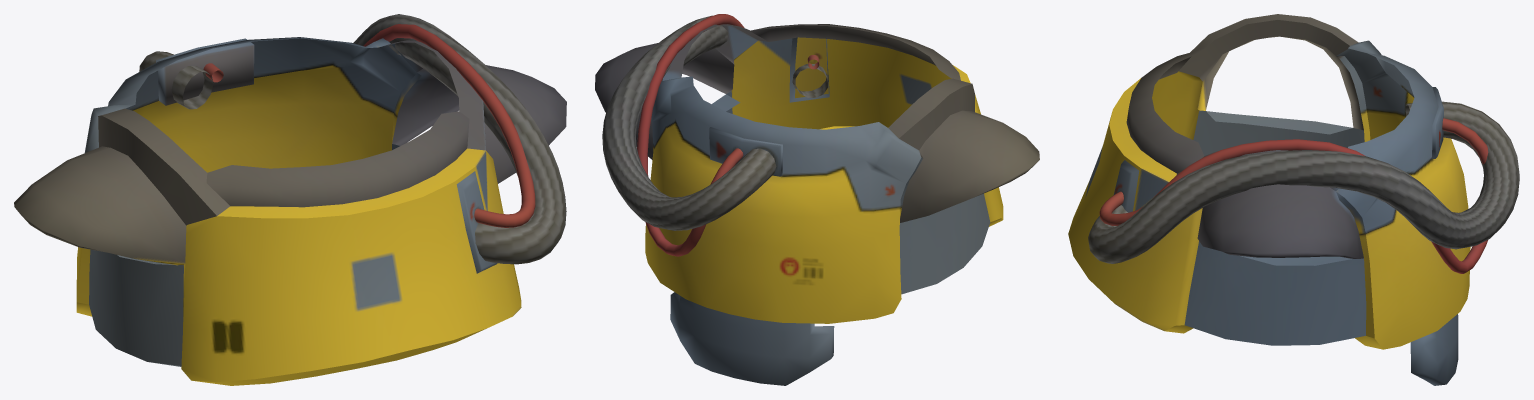
File: IG_Armor_Storm.fbx
The picture shows the model from 3 angles, left to right: view 1: azimuth 30°, elevation 25°; view 2: azimuth 150°, elevation 25°; view 3: azimuth 270°, elevation 25°; orthographic projection. The views are drawn at different scales.
Visible parts, largest first — view 1: StormArmor; view 2: StormArmor; view 3: StormArmor.
Part boxes in pixels (box(x1,y1,x2,y2)): StormArmor: box(14, 14, 566, 385); StormArmor: box(595, 14, 1039, 385); StormArmor: box(1068, 14, 1519, 385).
Bounding box in the file's own units: 0.9151 × 0.5447 × 0.7736.
